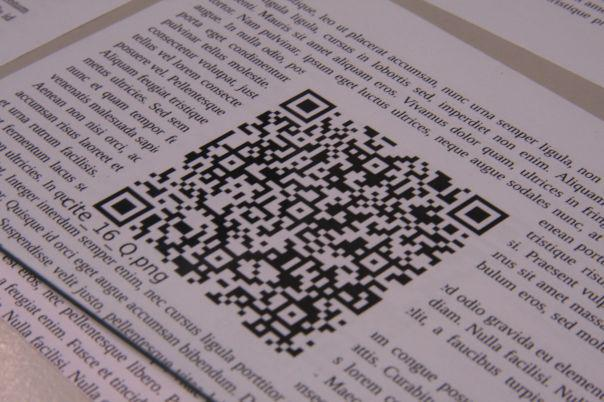Finder pattern: (446, 193, 508, 239), (93, 188, 154, 229), (280, 87, 338, 124)
